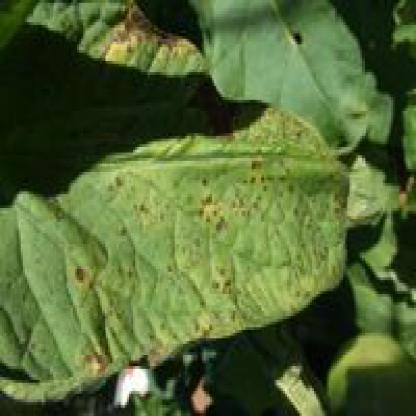tomato septoria leaf spot: (2, 94, 356, 405)
